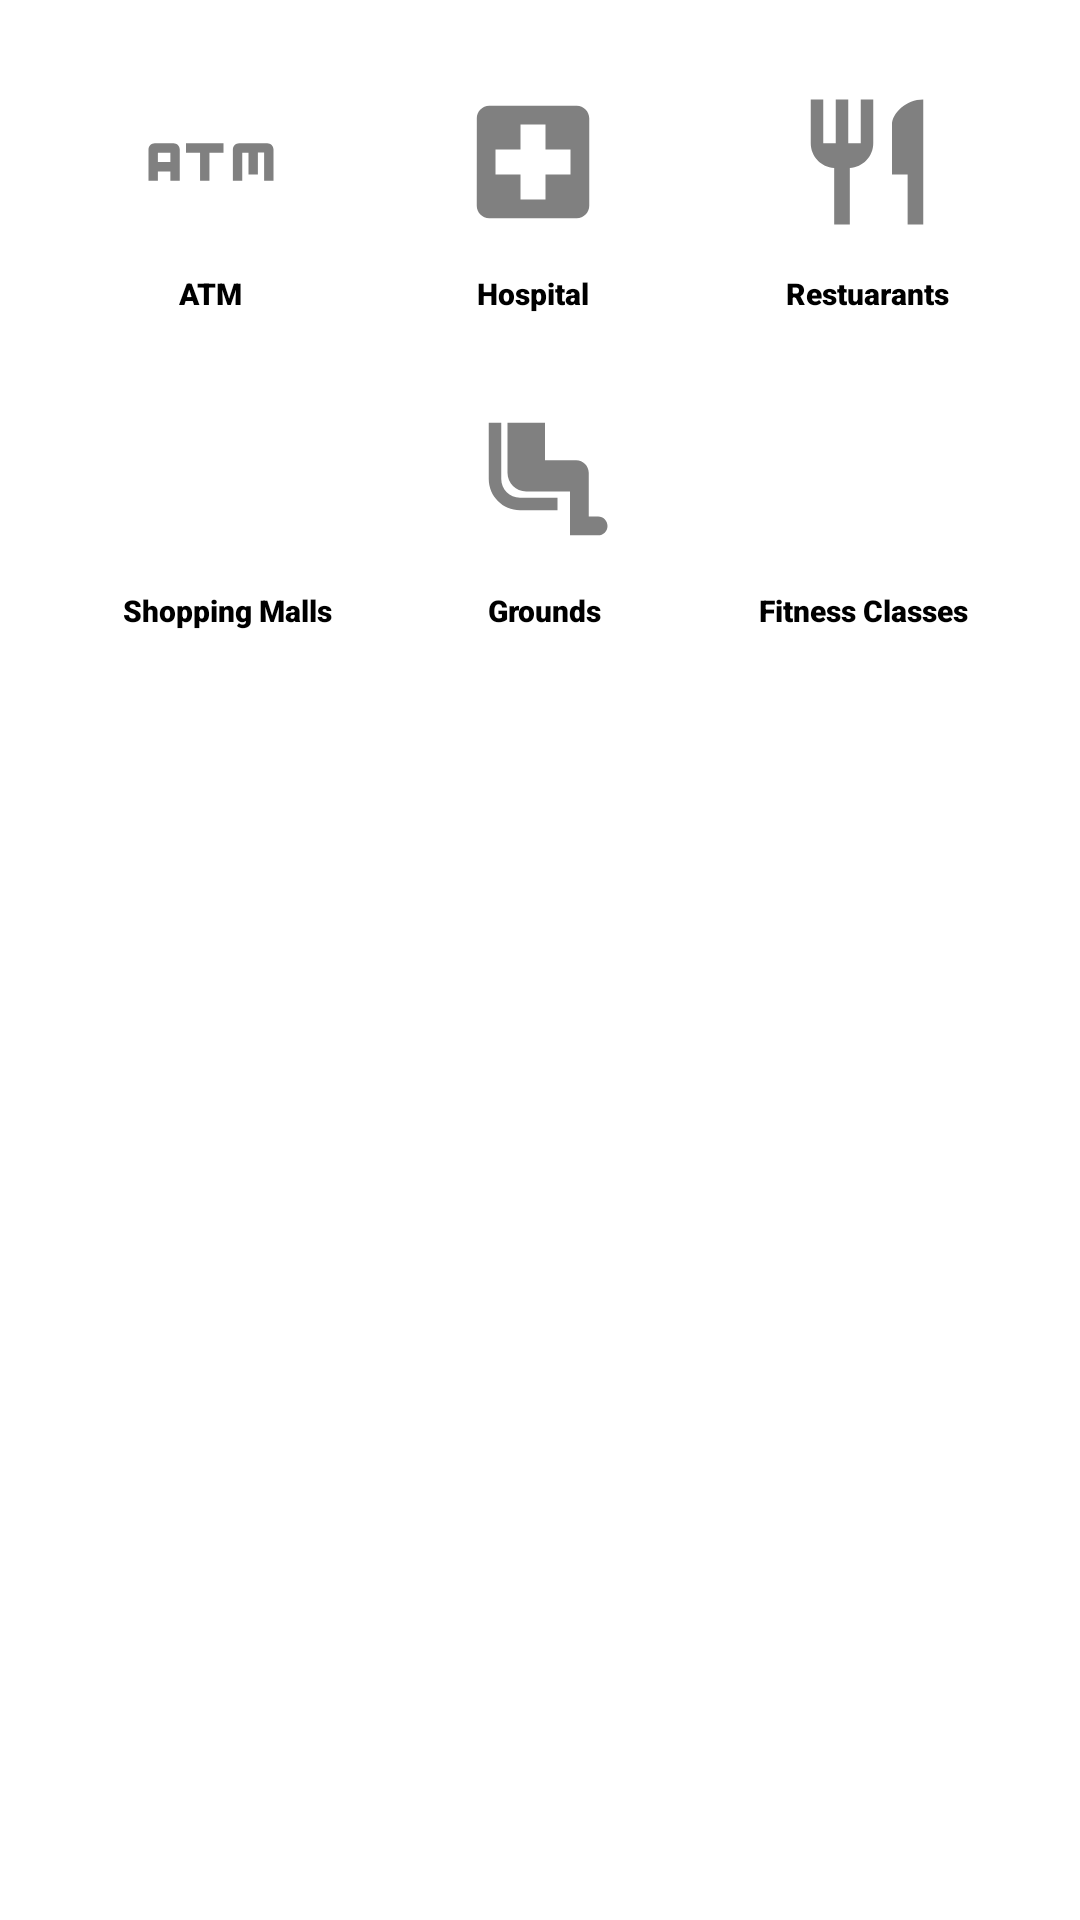

Point at icon controls on the screen. Image size 1080x1920, points as (x=x, y=y).
restaurant: (x=867, y=162)
